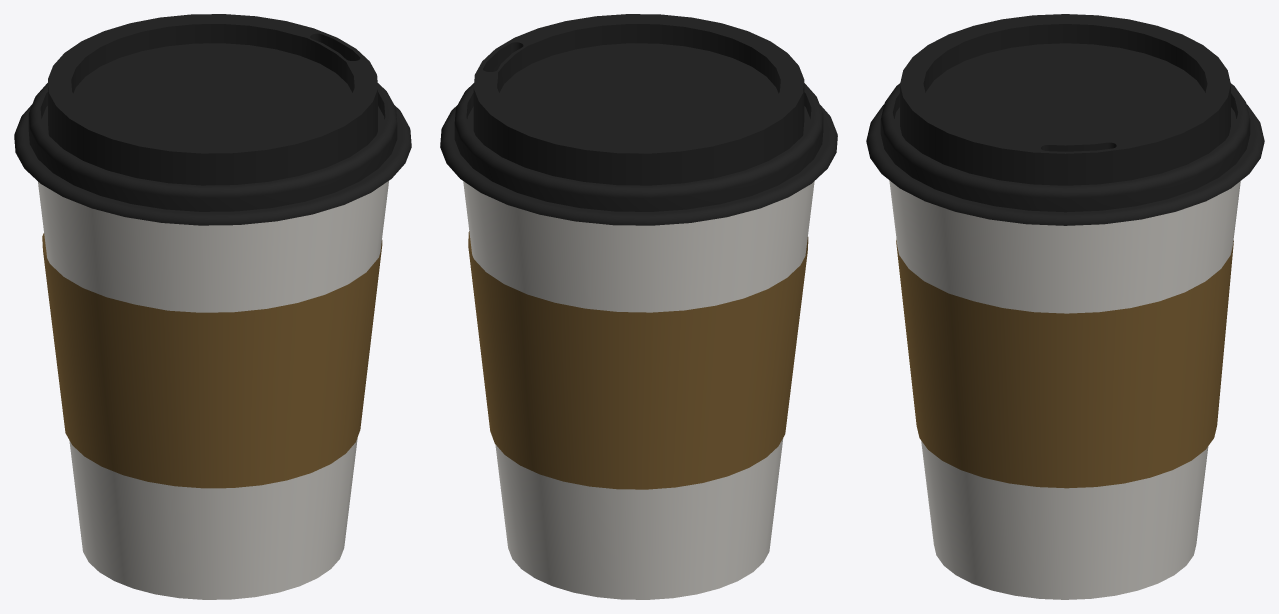
Rendered from coffee_cup.glb.
The picture shows the model from 3 angles, left to right: view 1: azimuth 30°, elevation 25°; view 2: azimuth 150°, elevation 25°; view 3: azimuth 270°, elevation 25°; orthographic projection.
Visible parts, largest first — view 1: Cylinder.001, Cylinder, Cylinder.002; view 2: Cylinder.001, Cylinder, Cylinder.002; view 3: Cylinder.001, Cylinder, Cylinder.002.
Boxes of the visible parts, x1,y1,x2,y2 form: Cylinder.001: (14, 14, 411, 225); Cylinder: (38, 181, 388, 599); Cylinder.002: (42, 233, 382, 488); Cylinder.001: (440, 14, 837, 225); Cylinder: (463, 181, 814, 599); Cylinder.002: (468, 231, 808, 489); Cylinder.001: (866, 14, 1264, 225); Cylinder: (889, 180, 1240, 599); Cylinder.002: (896, 239, 1233, 488).
Bounding box in the file's own units: 6.91 × 8.82 × 6.91.
